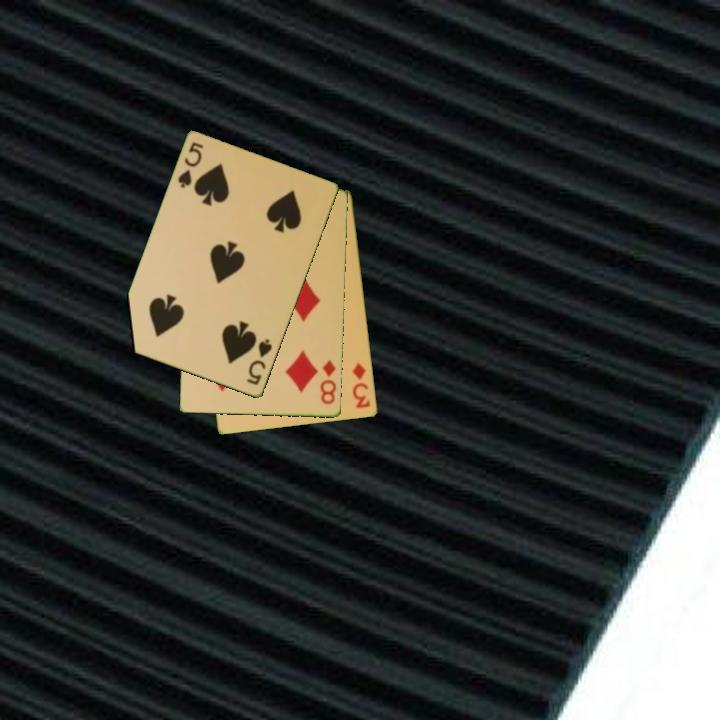3d: (349, 360, 373, 411)
5s: (243, 335, 275, 388), (174, 139, 206, 191)
8d: (317, 357, 339, 407)
